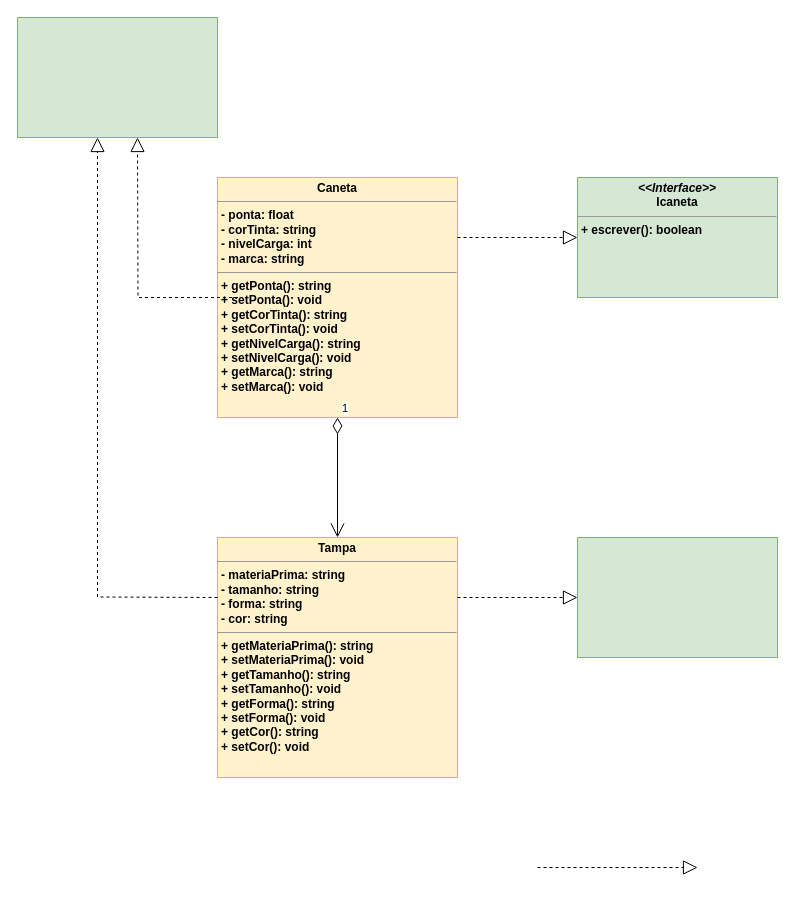
This 795x899 diagram has some shape labels left out. The shapes that lost their labels are listed below. From the top down, each one's box as (x1, y1, x2, y2) in pixels, then its label:
(16, 16, 218, 138): <<Interface>> IVerificador + verificaAtributo(valor): boolean
(576, 536, 778, 658): <<Interface>> ITampa + tampar(): string + destampar(): string
